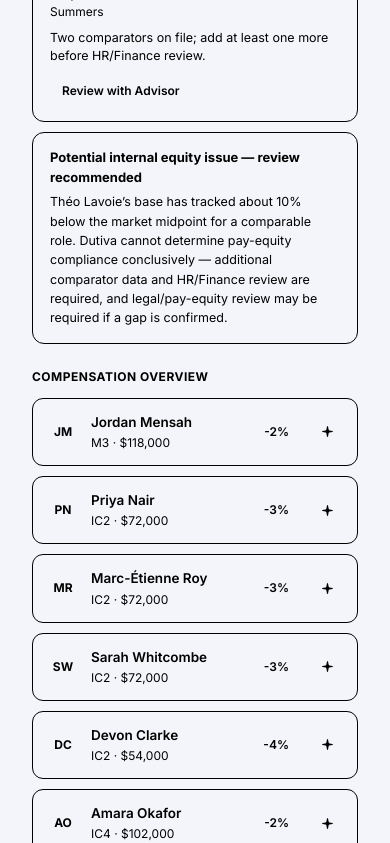
Scenario: CompensationView › navigates to the employee compensation tab when a row is opened
The width and height of the screenshot is (390, 843).
(page scrolled)
What coordinates should you click on to do the following:
click the button with aria-label "Open compensation for Jordan Mensah"
I would click on:
 (167, 422)
Its box is x1=91 y1=412 x2=242 y2=432.
(page scrolled)
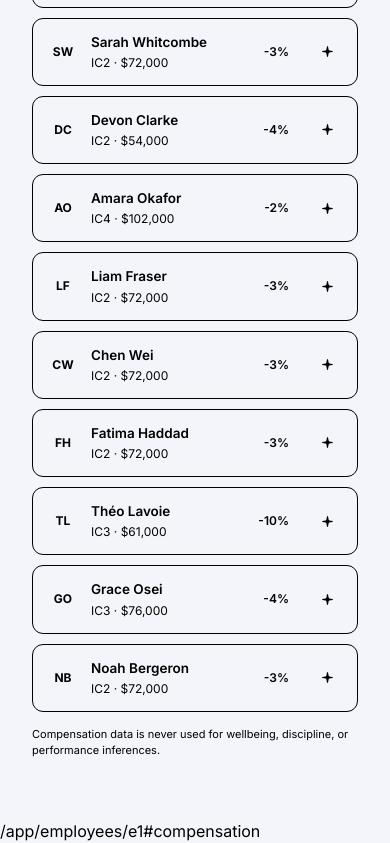
Result: the text with test id "location" reads "/app/employees/e1#compensation" at x1=0 y1=821 x2=260 y2=841
